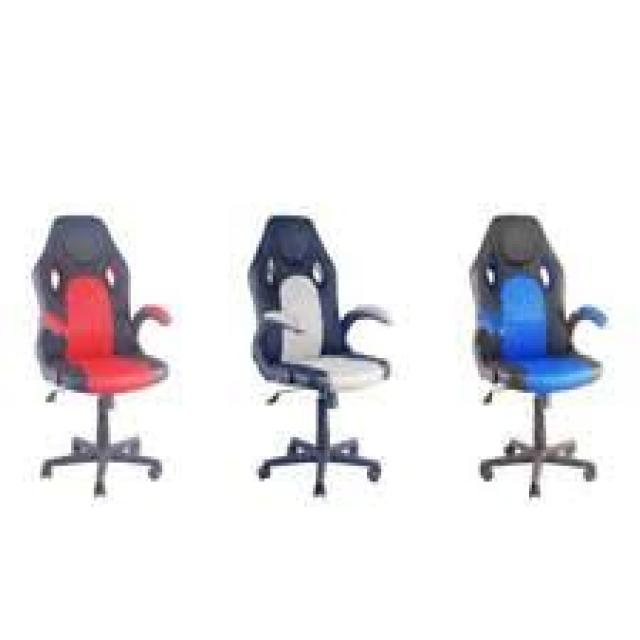chair: (414, 186, 640, 605), (209, 178, 399, 570), (13, 187, 204, 557)
